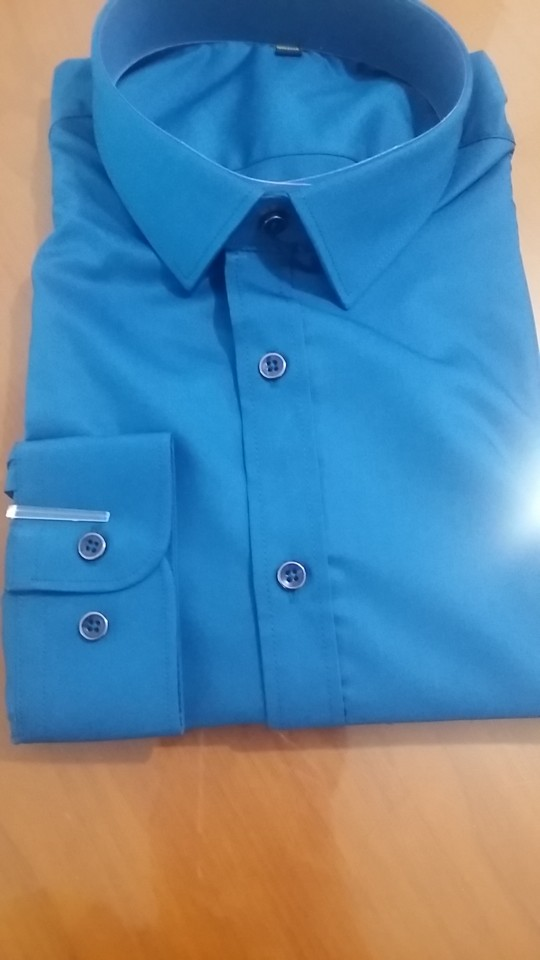shirts: (15, 7, 540, 729)
